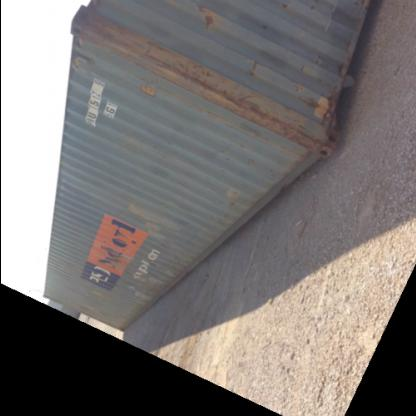Damage: (141, 46, 224, 104), (228, 94, 278, 136), (129, 202, 177, 242), (286, 82, 332, 118), (212, 182, 242, 228), (98, 246, 134, 272), (184, 2, 216, 31), (68, 39, 90, 76), (119, 280, 150, 304), (238, 150, 262, 176), (237, 56, 255, 80), (83, 286, 101, 300), (252, 18, 270, 30)
